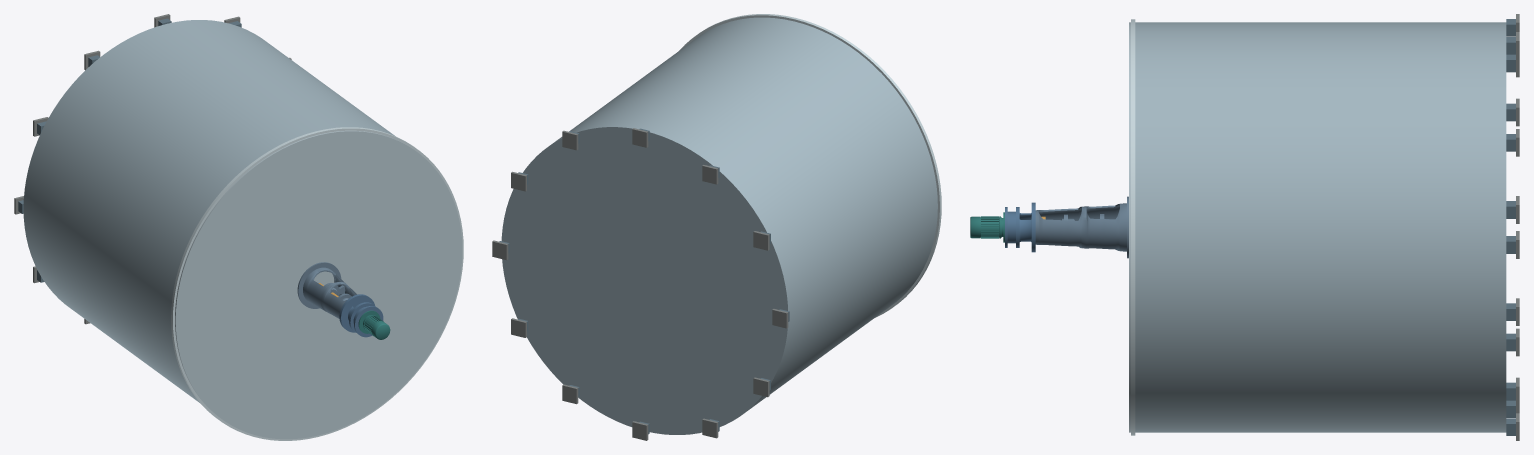
File: C41B02_钛液预热槽.obj
3 views of the same model, side by side, from view 1: azimuth 30°, elevation 25°; view 2: azimuth 150°, elevation 25°; view 3: azimuth 270°, elevation 25° (orthographic). The views are drawn at different scales.
Parts seen in each view (by area): view 1: Tank_cover_lid, Tank_shell_OD5500_H5000, Lid_edge_rim, 06_Tapered_window_frame_with_bored_seats, 01_Motor, 06_Frame_foot, 02_Base_flange_top; view 2: Tank_shell_OD5500_H5000, Lid_edge_rim; view 3: Tank_shell_OD5500_H5000, 06_Tapered_window_frame_with_bored_seats, Lid_edge_rim, Tank_cover_lid, 01_Motor.
Part boxes in pixels (box(x1,y1,x2,y2)): Tank_cover_lid: box(175, 130, 462, 439); Tank_shell_OD5500_H5000: box(23, 20, 395, 402); Lid_edge_rim: box(171, 127, 463, 440); 06_Tapered_window_frame_with_bored_seats: box(303, 267, 357, 318); 01_Motor: box(358, 310, 390, 339); 06_Frame_foot: box(297, 262, 341, 308); 02_Base_flange_top: box(340, 295, 374, 332); Tank_shell_OD5500_H5000: box(501, 17, 937, 434); Lid_edge_rim: box(679, 14, 941, 317); Tank_shell_OD5500_H5000: box(1135, 22, 1506, 432); 06_Tapered_window_frame_with_bored_seats: box(1035, 203, 1126, 251); Lid_edge_rim: box(1131, 19, 1135, 435); Tank_cover_lid: box(1129, 22, 1130, 432); 01_Motor: box(970, 212, 1004, 242).
Bounding box in the file's own units: 5.65 × 5.65 × 7.36.
